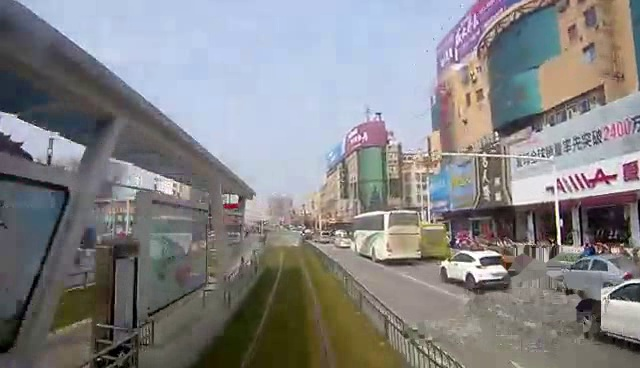bus: (351, 203, 427, 270)
car: (577, 279, 640, 347), (438, 248, 514, 288)
